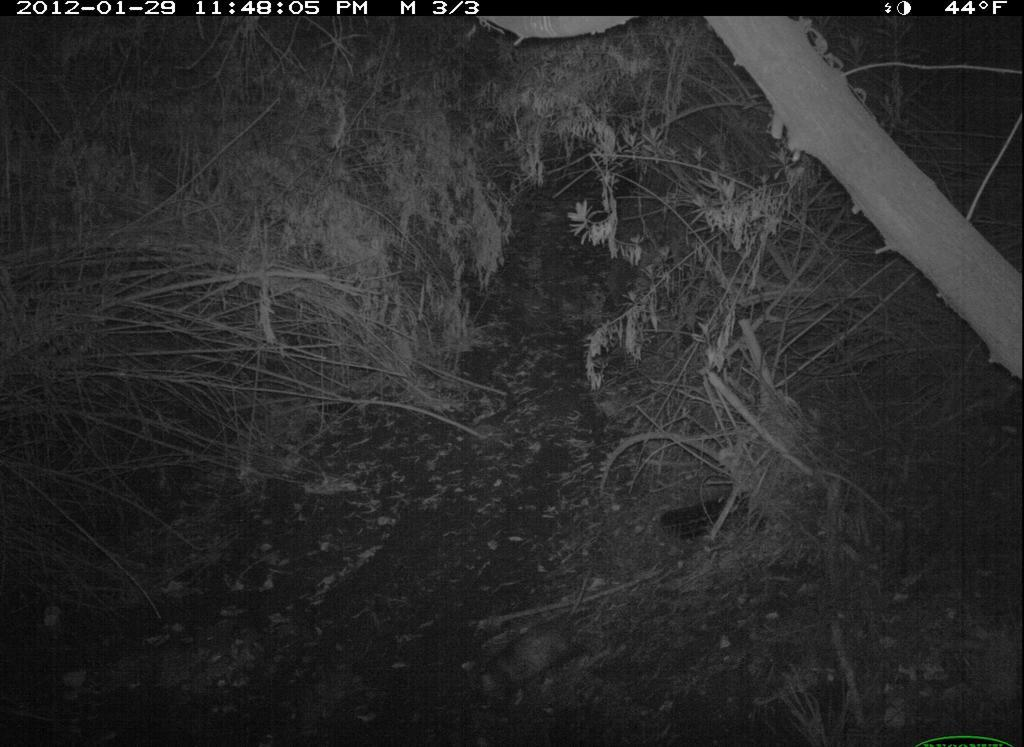opossum: (466, 603, 605, 712)
